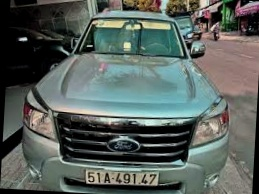Bien-so: (96, 161, 171, 181)
